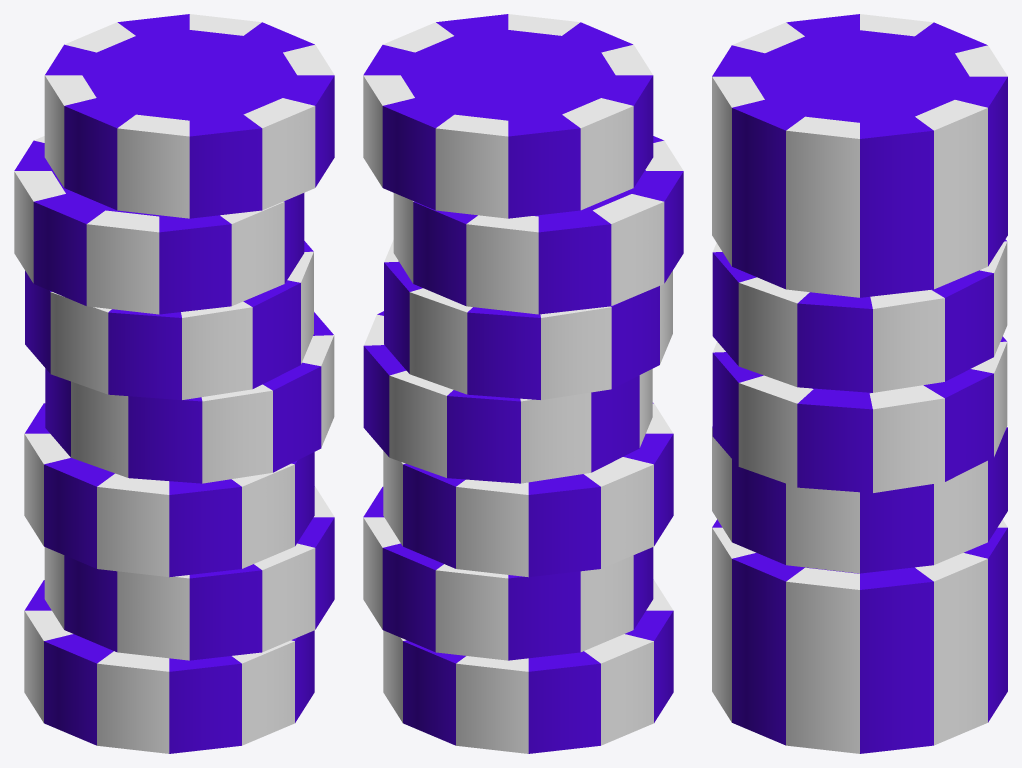
File: Poker Chip Purple Small Stack.FBX
The picture shows the model from 3 angles, left to right: view 1: azimuth 30°, elevation 25°; view 2: azimuth 150°, elevation 25°; view 3: azimuth 270°, elevation 25°; orthographic projection. The views are drawn at different scales.
Parts seen in each view (by area): view 1: Poker Chip Purple016, Poker Chip Purple015, Poker Chip Purple012, Poker Chip Purple Small Stack, Poker Chip Purple014, Poker Chip Purple011, Poker Chip Purple013; view 2: Poker Chip Purple016, Poker Chip Purple015, Poker Chip Purple012, Poker Chip Purple Small Stack, Poker Chip Purple014, Poker Chip Purple011, Poker Chip Purple013; view 3: Poker Chip Purple016, Poker Chip Purple011, Poker Chip Purple013, Poker Chip Purple014, Poker Chip Purple012, Poker Chip Purple Small Stack, Poker Chip Purple015.
Part boxes in pixels (bbox=[...]): Poker Chip Purple016: bbox=[44, 14, 334, 218]; Poker Chip Purple015: bbox=[14, 136, 304, 314]; Poker Chip Purple012: bbox=[24, 403, 314, 577]; Poker Chip Purple Small Stack: bbox=[24, 580, 314, 753]; Poker Chip Purple014: bbox=[25, 241, 313, 399]; Poker Chip Purple011: bbox=[44, 486, 334, 660]; Poker Chip Purple013: bbox=[45, 312, 334, 483]; Poker Chip Purple016: bbox=[363, 14, 653, 218]; Poker Chip Purple015: bbox=[393, 136, 683, 314]; Poker Chip Purple012: bbox=[383, 403, 673, 577]; Poker Chip Purple Small Stack: bbox=[383, 580, 673, 753]; Poker Chip Purple014: bbox=[384, 240, 672, 399]; Poker Chip Purple011: bbox=[363, 486, 653, 660]; Poker Chip Purple013: bbox=[363, 311, 652, 483]; Poker Chip Purple016: bbox=[712, 14, 1007, 222]; Poker Chip Purple011: bbox=[712, 519, 1007, 673]; Poker Chip Purple013: bbox=[712, 336, 1007, 493]; Poker Chip Purple014: bbox=[712, 239, 1007, 392]; Poker Chip Purple012: bbox=[712, 426, 1007, 573]; Poker Chip Purple Small Stack: bbox=[712, 612, 1007, 753]; Poker Chip Purple015: bbox=[712, 161, 1007, 297].
Bounding box in the file's own units: 0.0179 × 0.0373 × 0.016.
